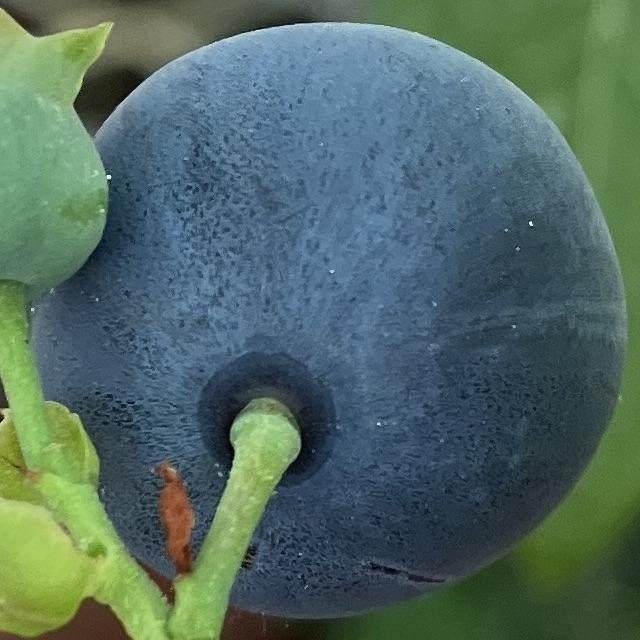Blueberries: (0, 0, 143, 322)
